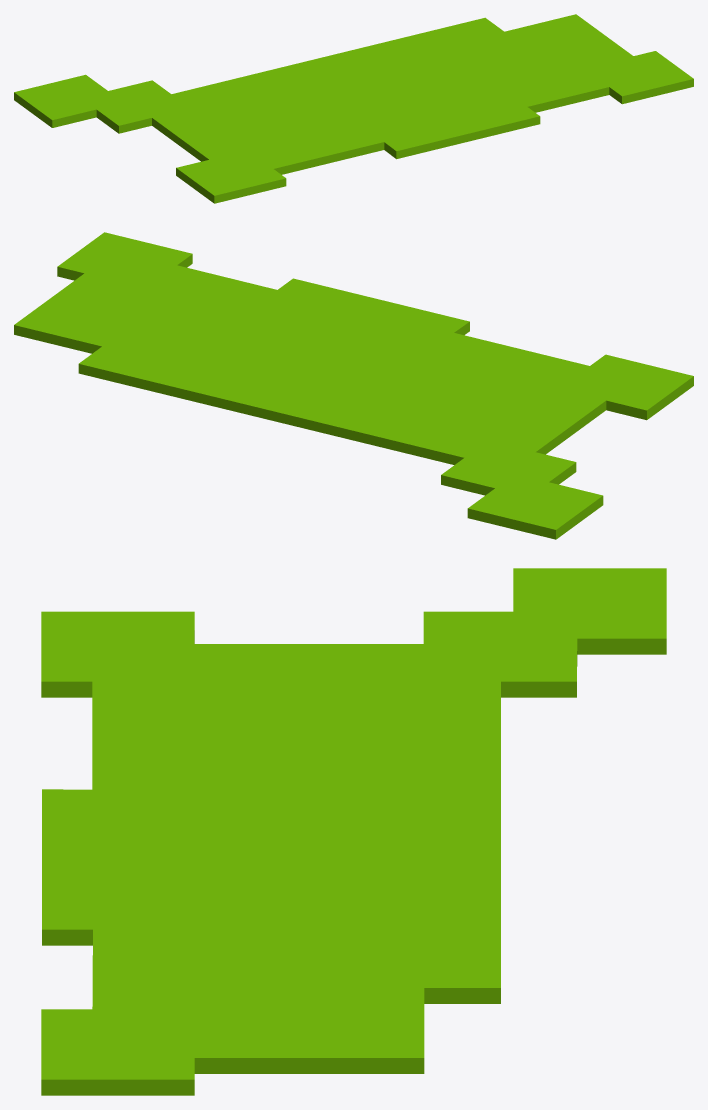
File: baselvl0.fbx
3 views of the same model, one above another, from view 1: azimuth 30°, elevation 25°; view 2: azimuth 150°, elevation 25°; view 3: azimuth 270°, elevation 25° (orthographic). The views are drawn at different scales.
Visible parts, largest first — view 1: Ground; view 2: Ground; view 3: Ground.
Part boxes in pixels (bbox=[...]): Ground: bbox=[14, 14, 693, 203]; Ground: bbox=[14, 232, 693, 539]; Ground: bbox=[41, 568, 666, 1095].
Bounding box in the file's own units: 69.08 × 1 × 35.71.
